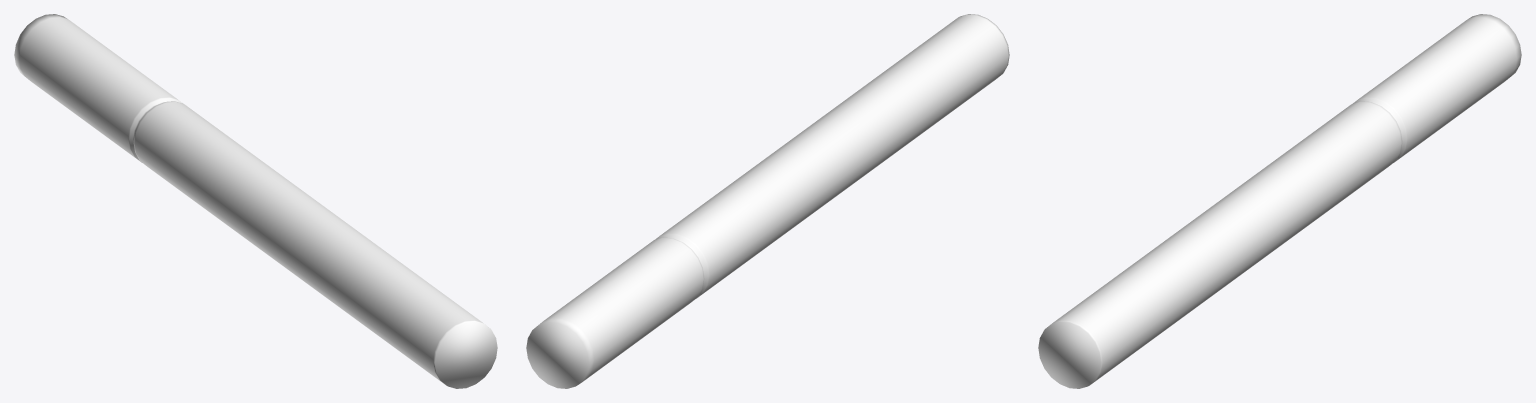
The model's file is cig.fbx.
3 views of the same model, side by side, from view 1: azimuth 30°, elevation 25°; view 2: azimuth 150°, elevation 25°; view 3: azimuth 330°, elevation 25° (orthographic).
Parts seen in each view (by area): view 1: _gltfNode_0; view 2: _gltfNode_0; view 3: _gltfNode_0.
Part boxes in pixels (box(x1,y1,x2,y2)): _gltfNode_0: box(14, 14, 497, 388); _gltfNode_0: box(526, 14, 1009, 388); _gltfNode_0: box(1038, 14, 1521, 388).
Size of the model in its own units: 0.7802 by 0.7802 by 9.
1 material, 1 textured.
